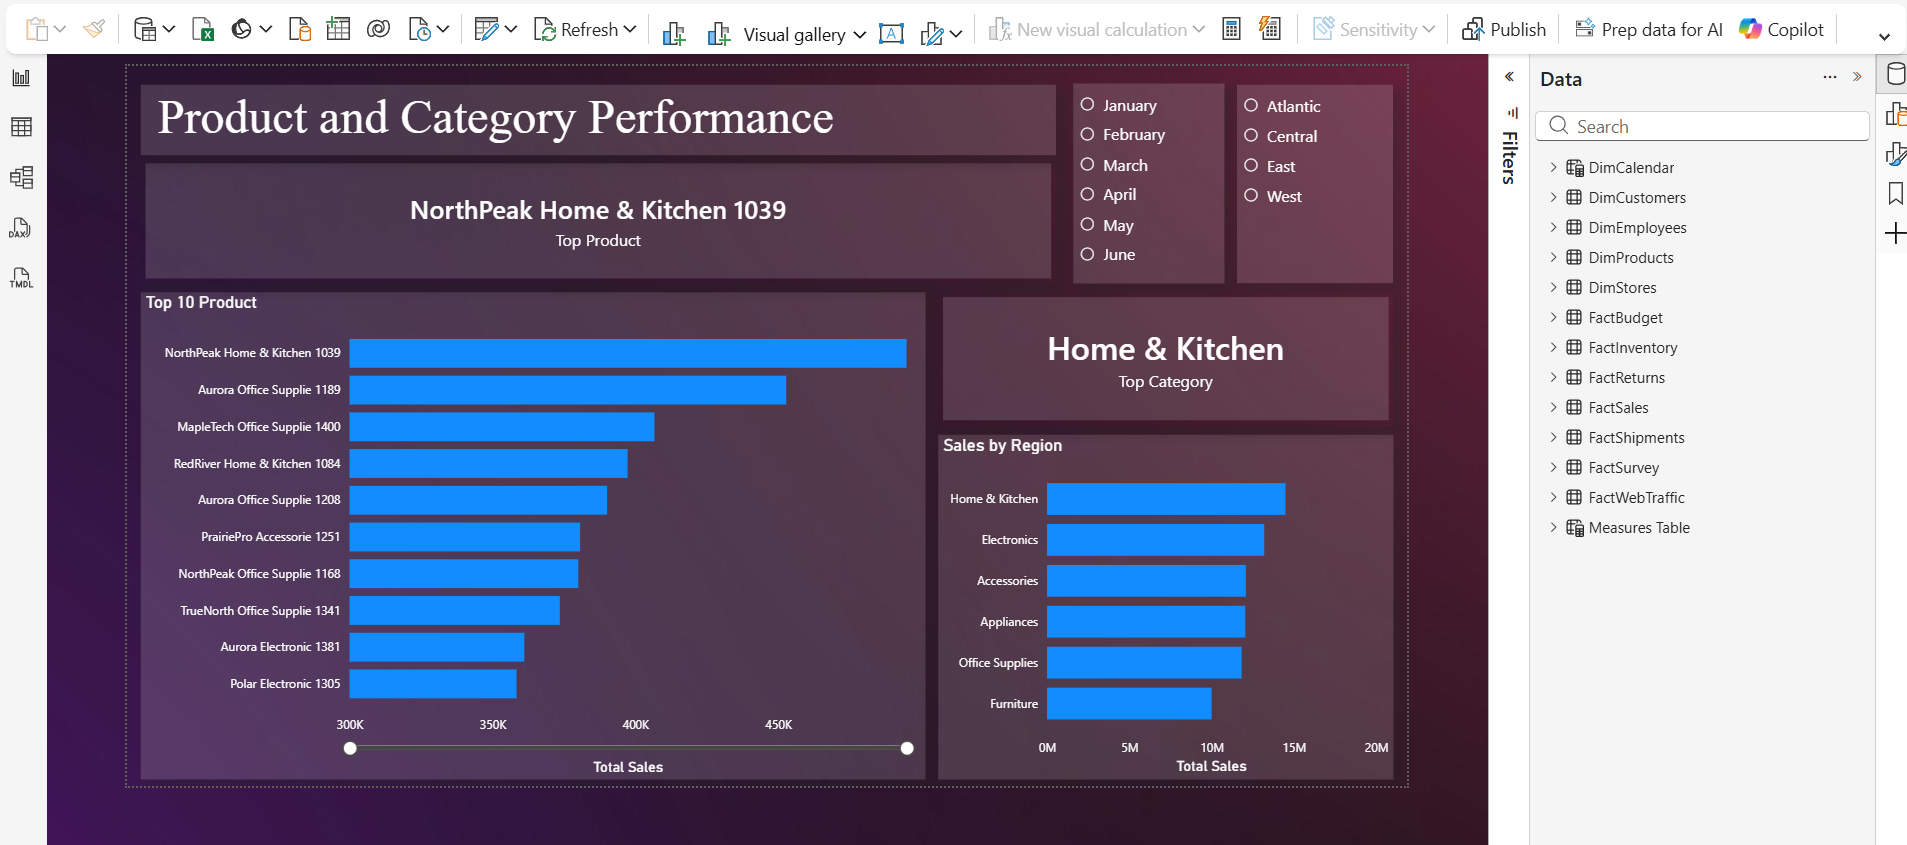

The dashboard page shown, as its layout file describes it:
{"tool":"powerbi","page":{"name":"Product and Category Performance","canvas":[1280,720],"ordinal":2},"visuals":[{"type":"barChart","title":"Top 10 Product","fields":{"Y":["MeasuresTable.Total Sales"],"Category":["DimProducts.ProductName"]},"box":[13.8,226.2,785,487.5],"z":4000},{"type":"barChart","title":"Sales by Region","fields":{"Y":["MeasuresTable.Total Sales"],"Category":["DimProducts.Category"]},"box":[811.2,368.8,455,345],"z":5000},{"type":"cardVisual","fields":{"Data":["Measures Table.Top Product"]},"box":[13.8,92.5,915,125],"z":7000},{"type":"cardVisual","fields":{"Data":["Measures Table.Top Category"]},"box":[811.2,226.2,455,133.8],"z":8000},{"type":"listSlicer","fields":{"Values":["DimCalendar.Month Name"]},"box":[946.2,17.5,151.2,200],"z":9000},{"type":"listSlicer","fields":{"Values":["DimStores.Region"]},"box":[1110,18.8,156.2,198.8],"z":10000},{"type":"textbox","box":[13.8,18.8,915,70],"z":11000}]}

Visuals, with their boxes on the page's 1280x720 design canvas (x1, y1, x2, y2). These are canvas units, not pixel positions in the 1907x845 screenshot, which may show the page scaled, cropped or inside an application window:
"Top 10 Product" barChart: box=[14, 226, 799, 714]
"Sales by Region" barChart: box=[811, 369, 1266, 714]
cardVisual - Measures Table.Top Product: box=[14, 92, 929, 218]
cardVisual - Measures Table.Top Category: box=[811, 226, 1266, 360]
listSlicer - DimCalendar.Month Name: box=[946, 18, 1097, 218]
listSlicer - DimStores.Region: box=[1110, 19, 1266, 218]
textbox: box=[14, 19, 929, 89]
